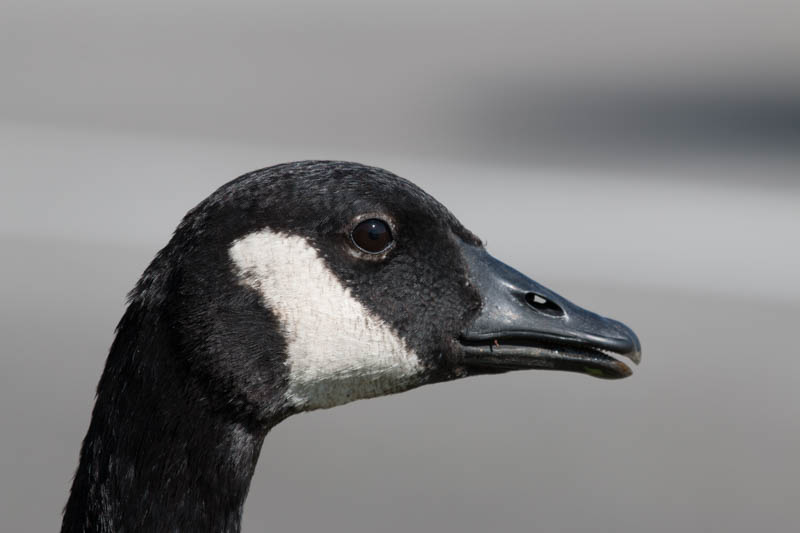goose-head: (137, 160, 644, 416)
